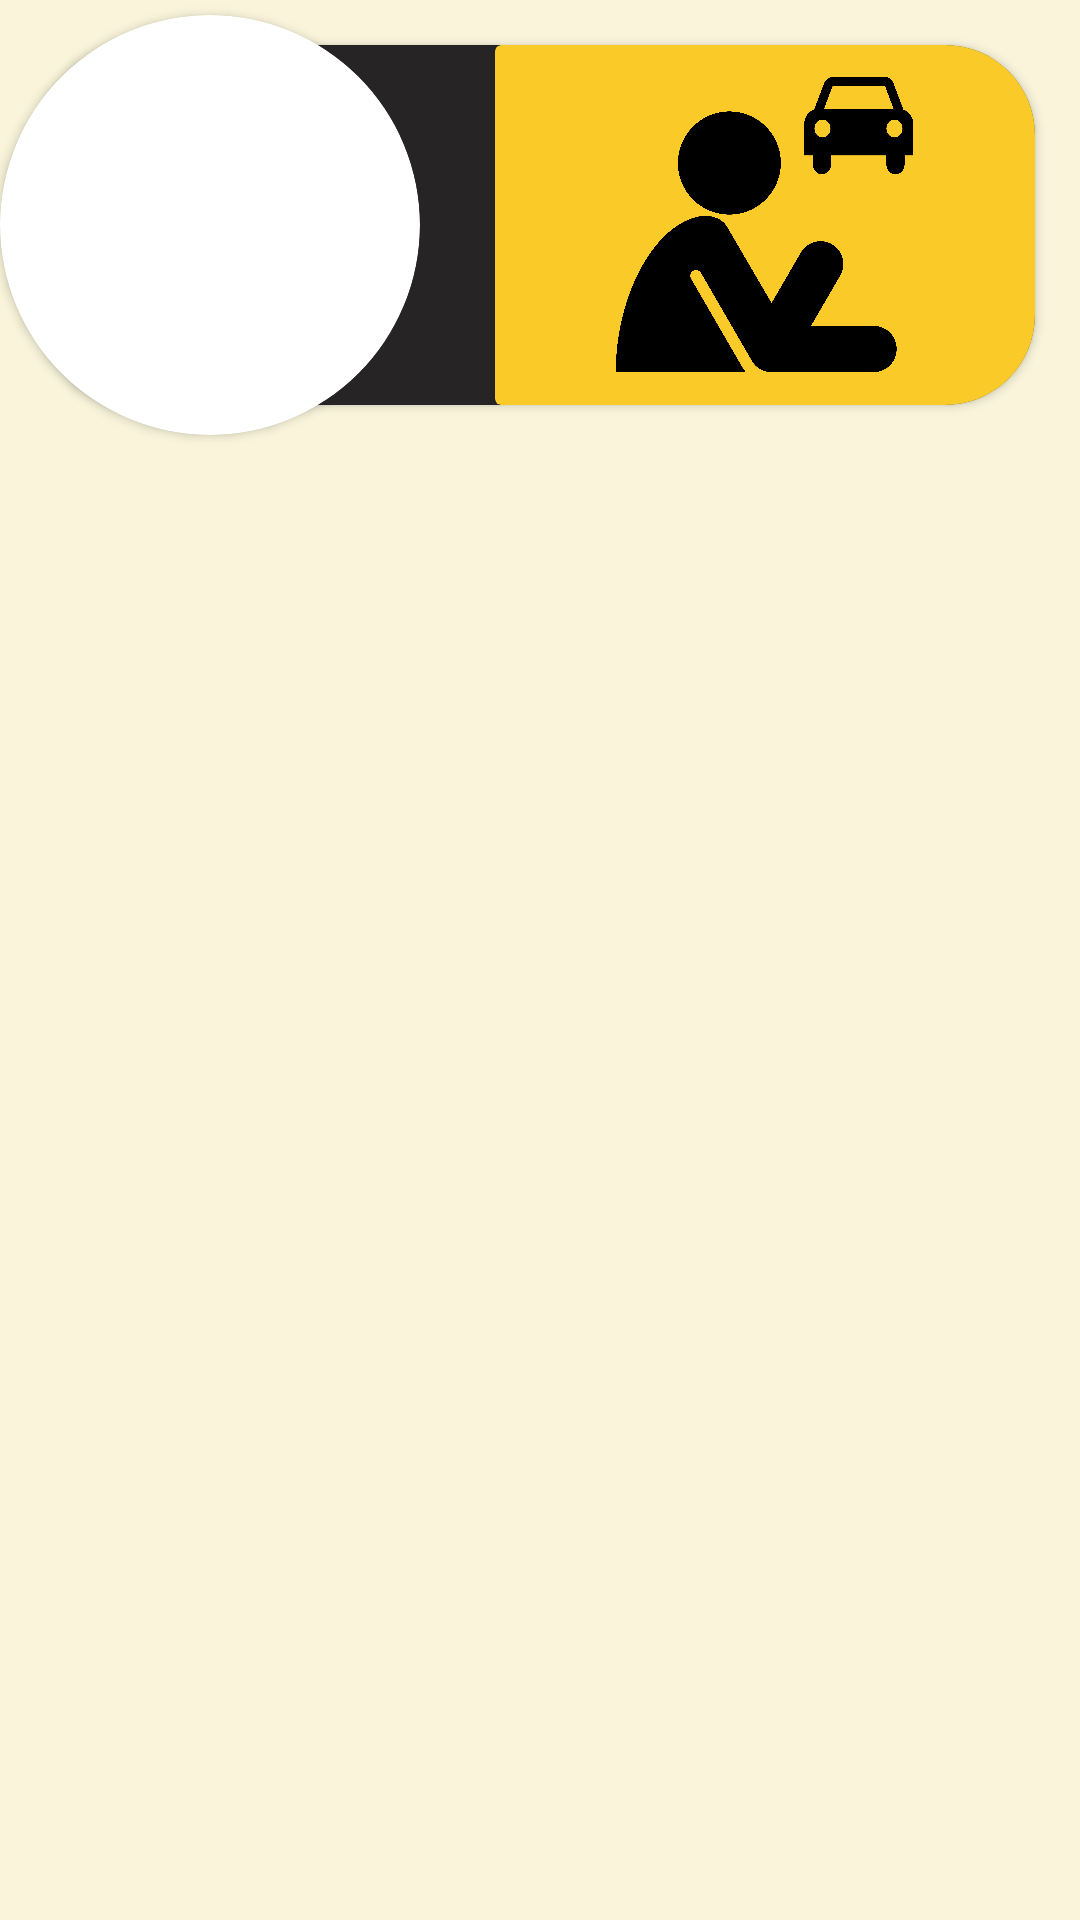

Icon bounding boxes for this 1080px×1920px phone screenshot, format (x1,y1,x2,y2):
passenger: (616,77,913,372)
